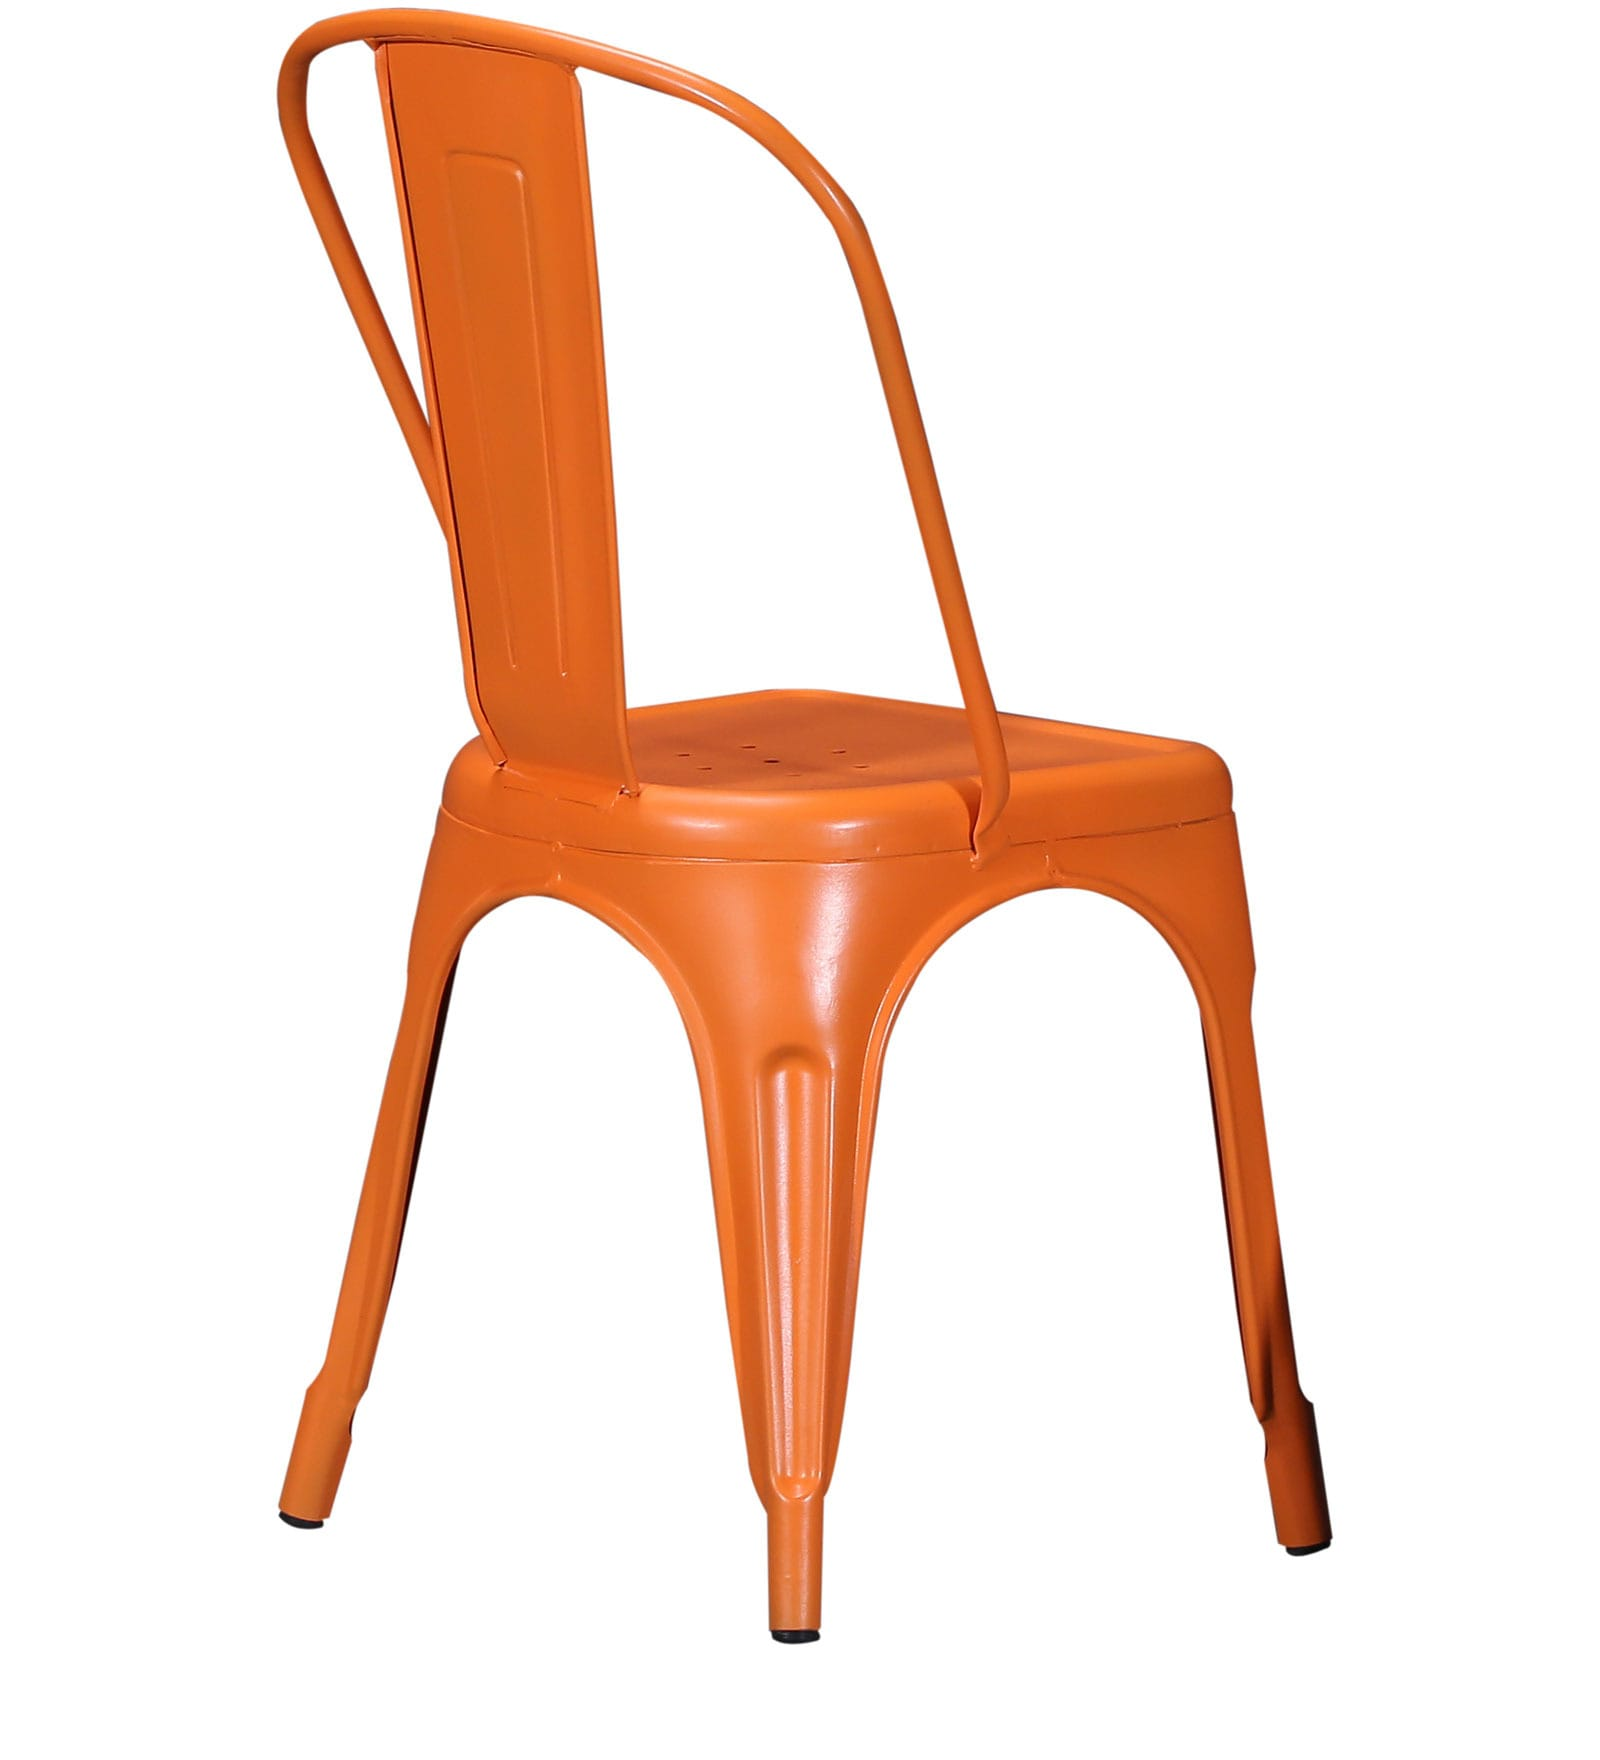Ekati Metal Chair in Orange Color with Eyelet by Bohemiana: (211, 8, 1376, 1643)
